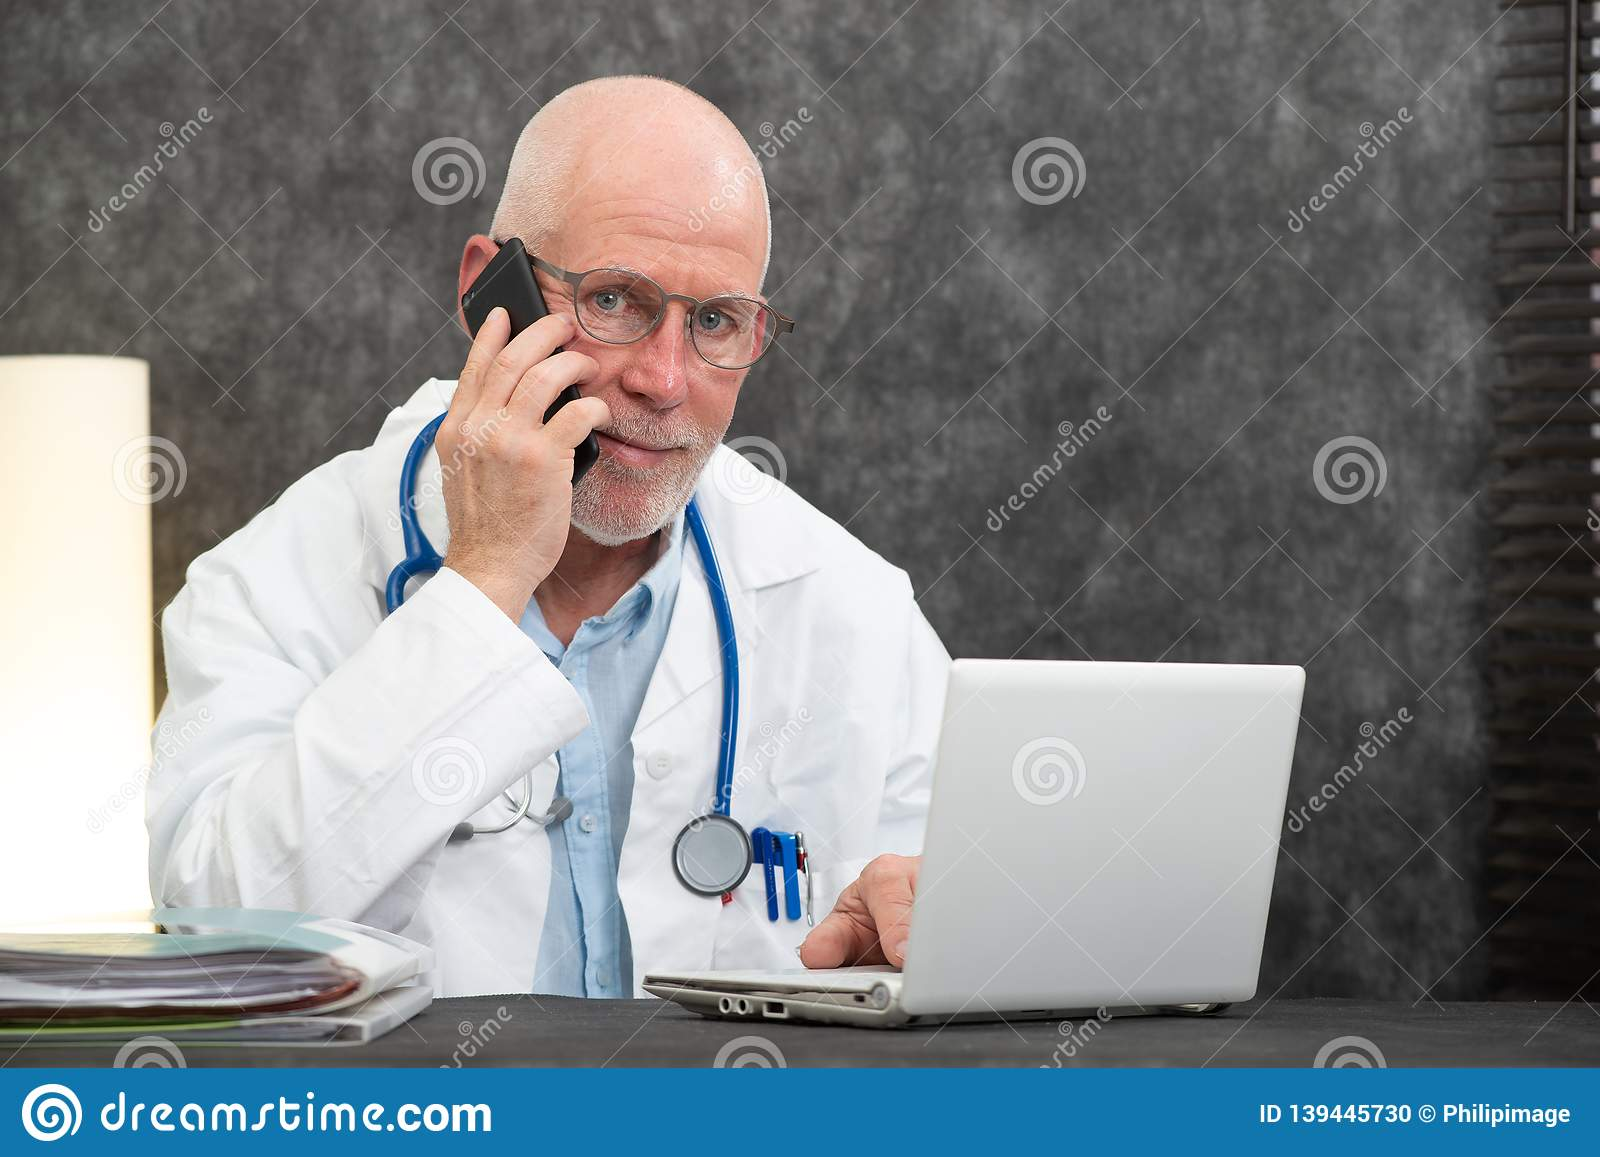phone: (460, 231, 599, 493)
talk: (434, 222, 761, 598)
